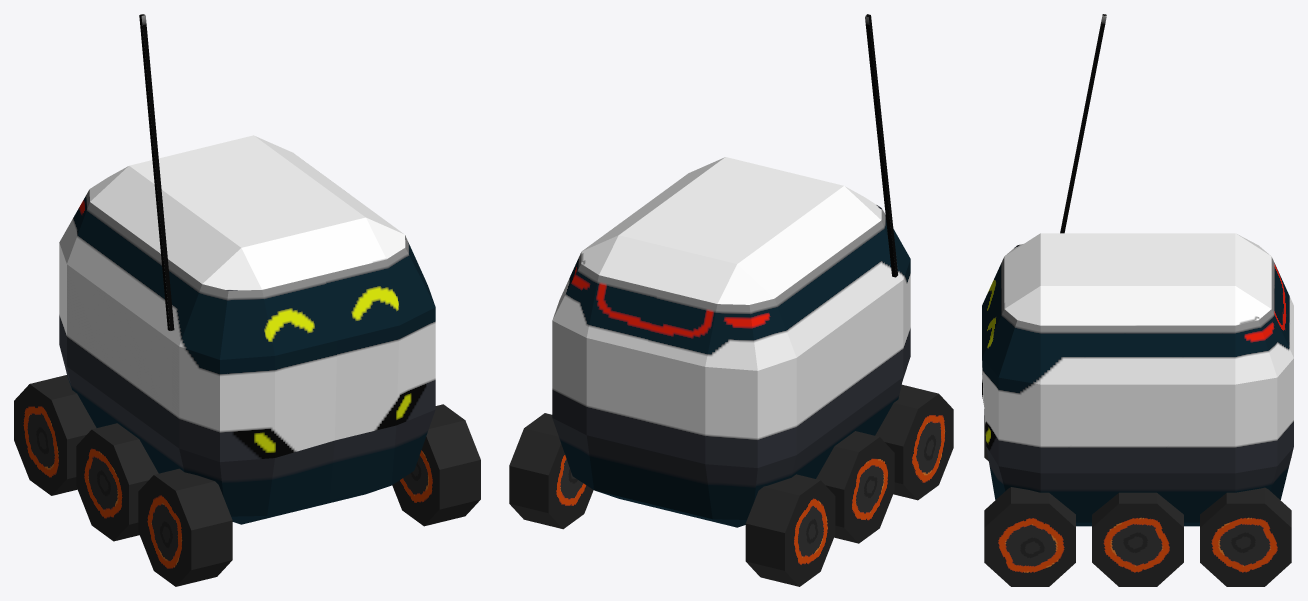
File: robbi.fbx
3 views of the same model, side by side, from view 1: azimuth 30°, elevation 25°; view 2: azimuth 150°, elevation 25°; view 3: azimuth 270°, elevation 25° (orthographic). The views are drawn at different scales.
Parts seen in each view (by area): view 1: body, wheel.002, wheel.003, wheel.001, flag.body; view 2: body, wheel.003, wheel.002, wheel.001, flag.body; view 3: body, wheel.002, wheel.003, wheel.001, flag.body.
Boxes of the visible parts, <box> form: body: <box>59,135,435,524</box>; wheel.002: <box>138,404,480,586</box>; wheel.003: <box>14,375,96,495</box>; wheel.001: <box>76,423,158,541</box>; flag.body: <box>139,14,174,330</box>; body: <box>552,157,910,527</box>; wheel.003: <box>509,413,835,586</box>; wheel.002: <box>875,384,953,500</box>; wheel.001: <box>816,431,894,543</box>; flag.body: <box>865,14,898,277</box>; body: <box>982,233,1293,526</box>; wheel.002: <box>984,409,1075,586</box>; wheel.003: <box>1200,457,1291,586</box>; wheel.001: <box>1092,492,1183,586</box>; flag.body: <box>1060,14,1106,233</box>.
Size of the model in its own units: 70 by 122 by 75.2.
